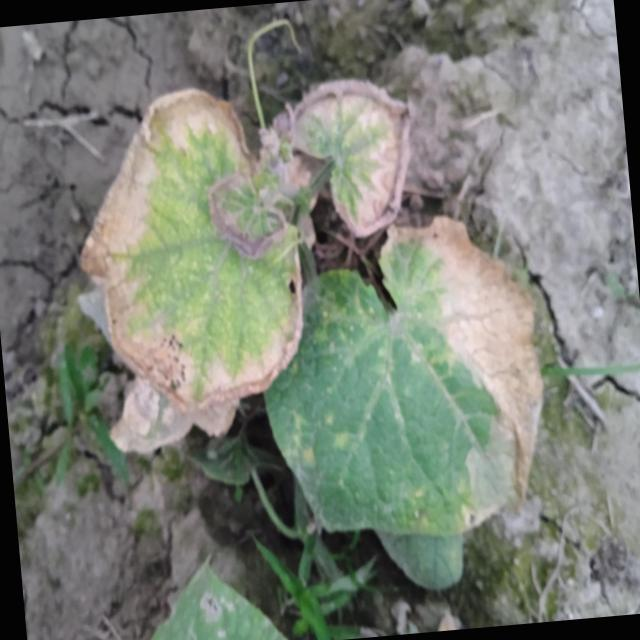cucumber_bacterial: (50, 62, 306, 470), (250, 238, 551, 559), (290, 64, 408, 258), (106, 550, 314, 640)
